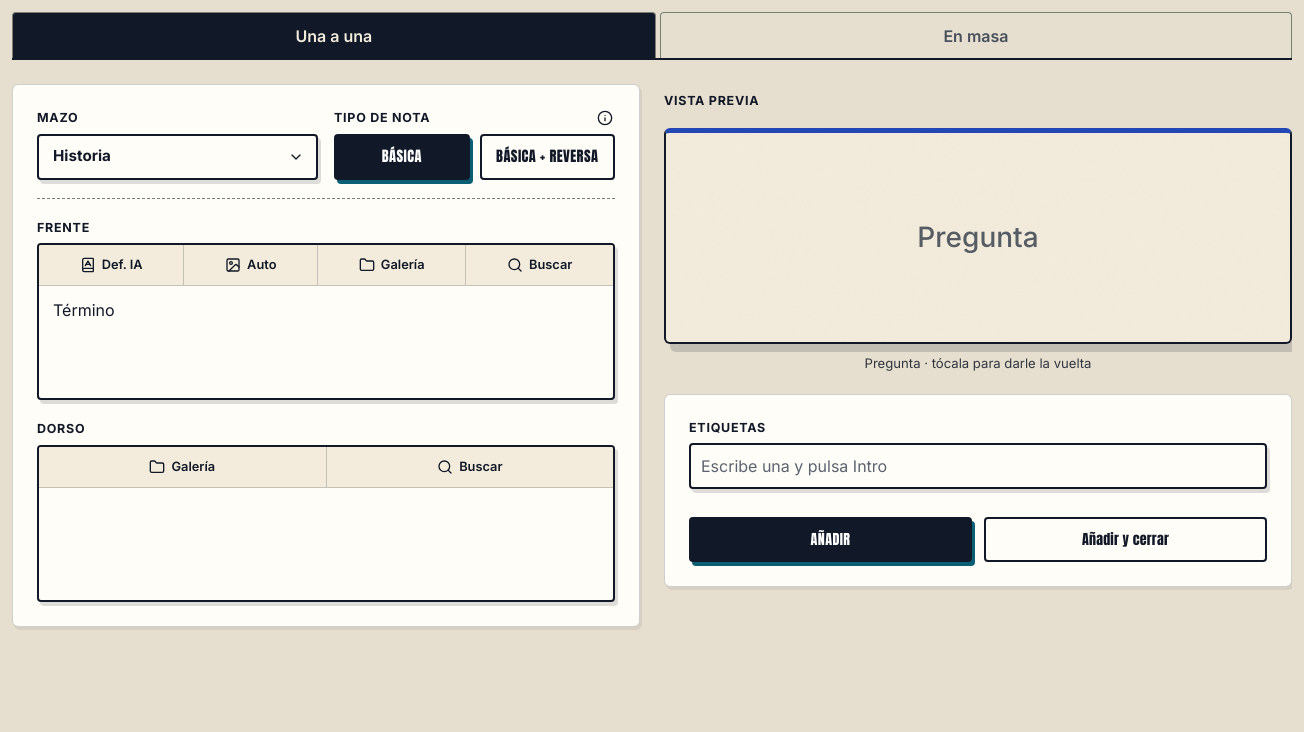
Scenario: switching between one by one and bulk mode › shows again what was typed instead of keeping it hidden
The width and height of the screenshot is (1304, 732).
Clear the field named "Frente de la tarjeta" at (84, 310), box [53,300,115,320]
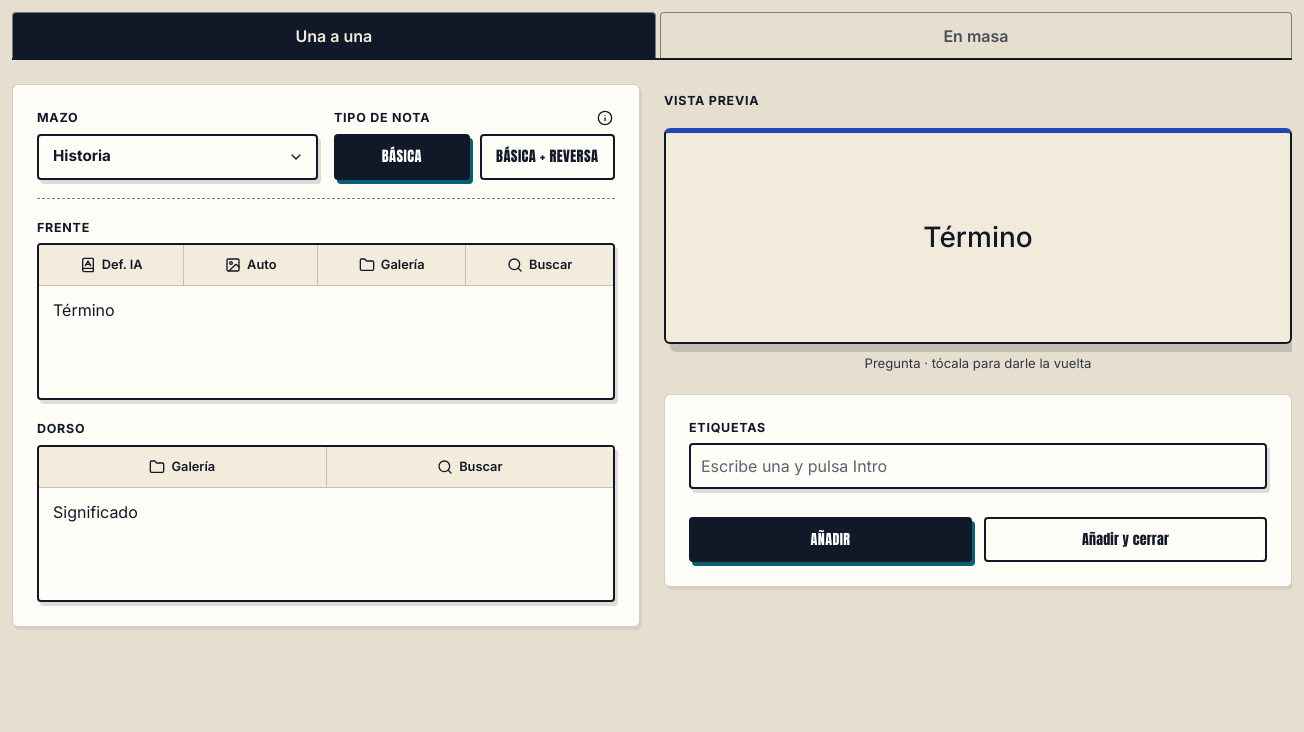
Click the button "En masa".
click(976, 35)  # box [660,12,1292,58]
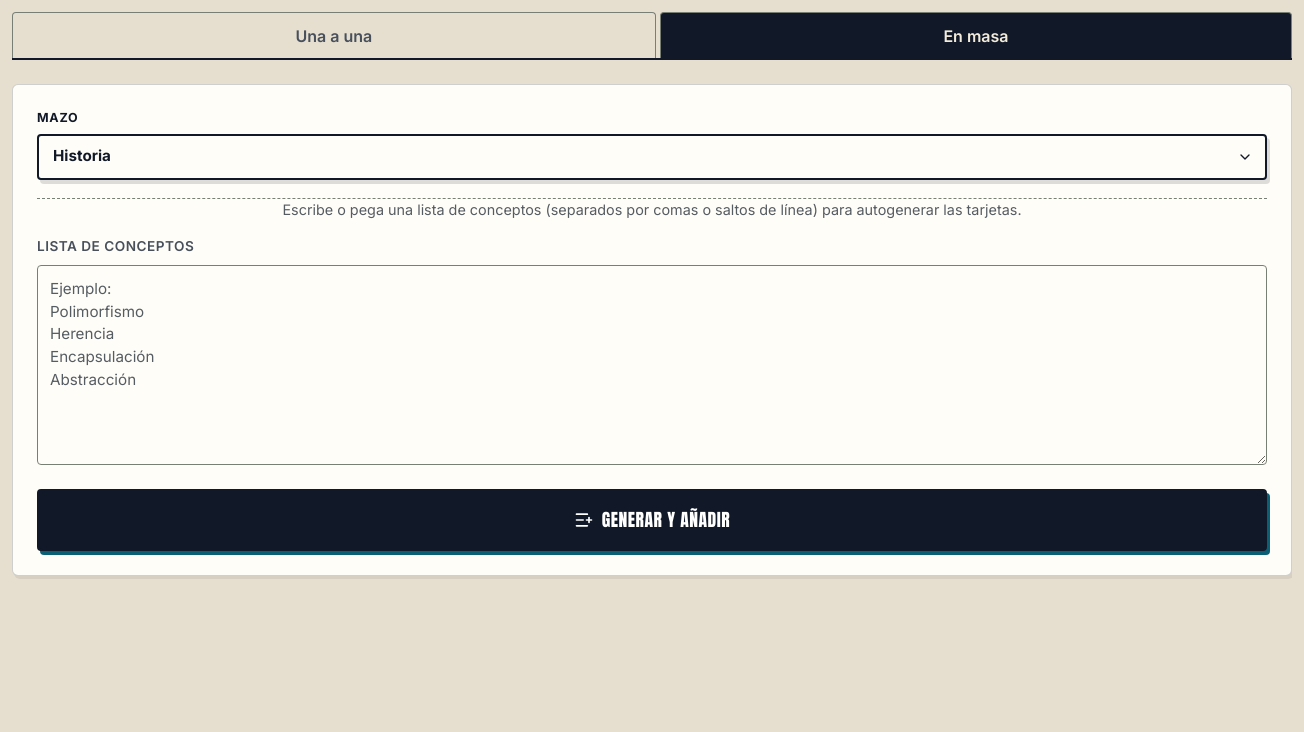
Click the button "Una a una".
click(334, 35)  # box [12,12,656,58]
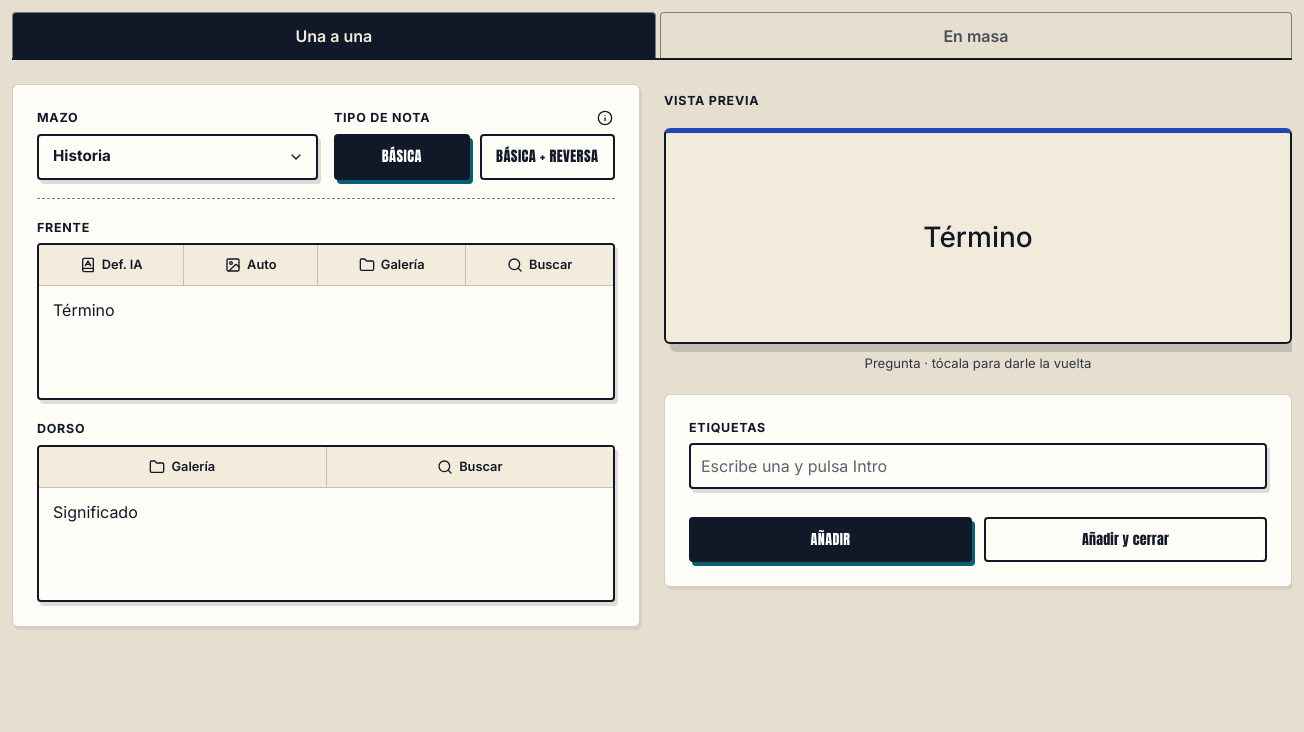
Now the field named "Frente de la tarjeta" reads "Término", box [53,300,115,320]
Now the field named "Dorso de la tarjeta" reads "Significado", box [53,502,138,522]
